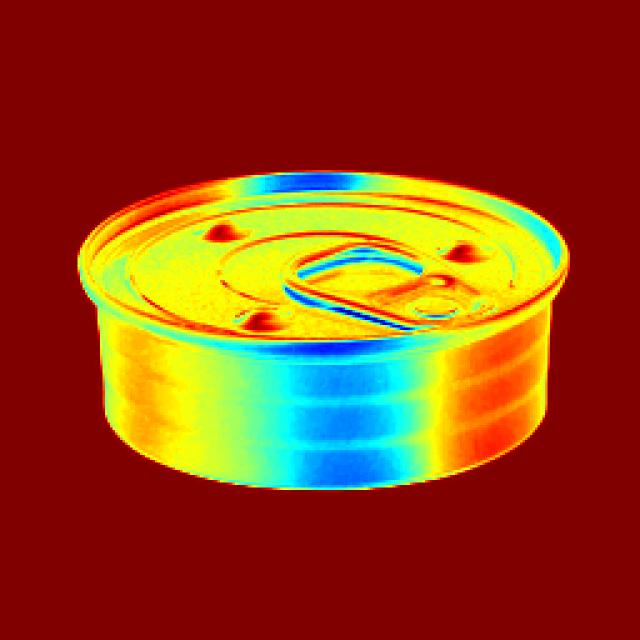Aluminium Food Cans: (44, 150, 586, 575)
